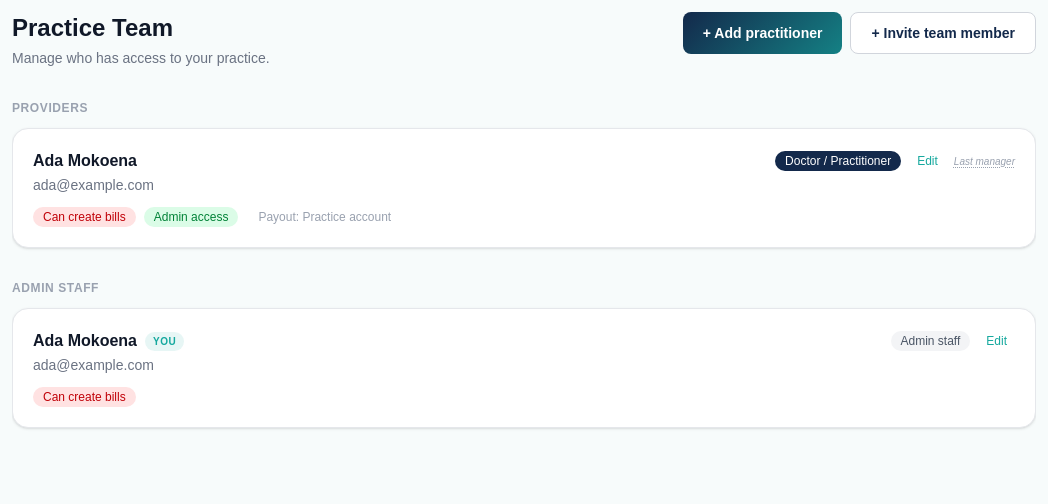
it: "Last manager" tag explains the actual rule › tapping again collapses it
Step 1. Click the button with test id "last-manager-tag-doc1" → (984,161), box [954,154,1015,168]
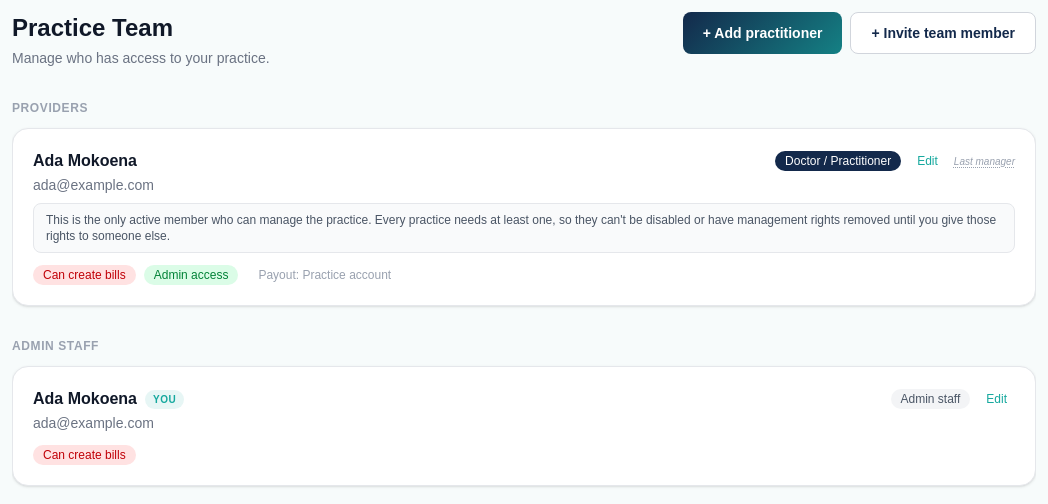
Step 2. Click the button with test id "last-manager-tag-doc1" → (984,161), box [954,154,1015,168]
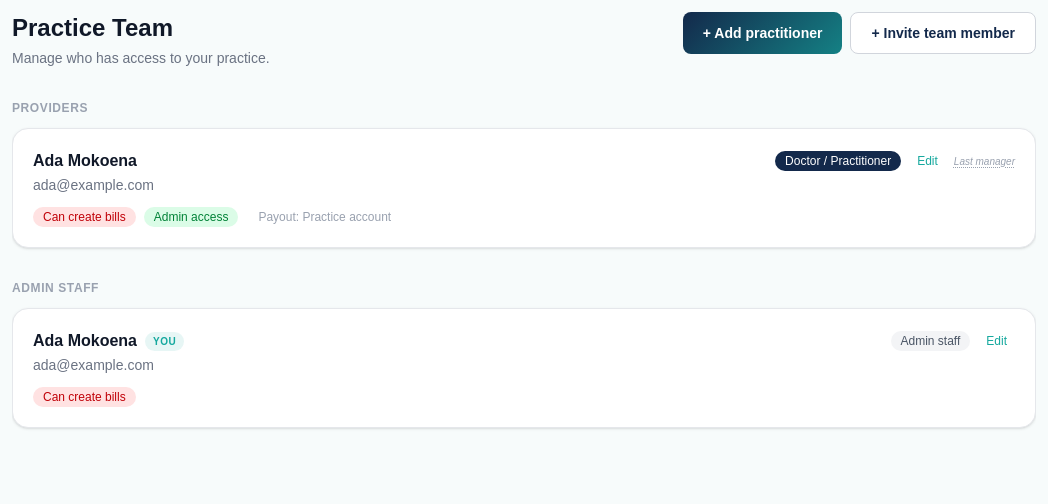
Check: the text with test id "last-manager-help-doc1" is gone
